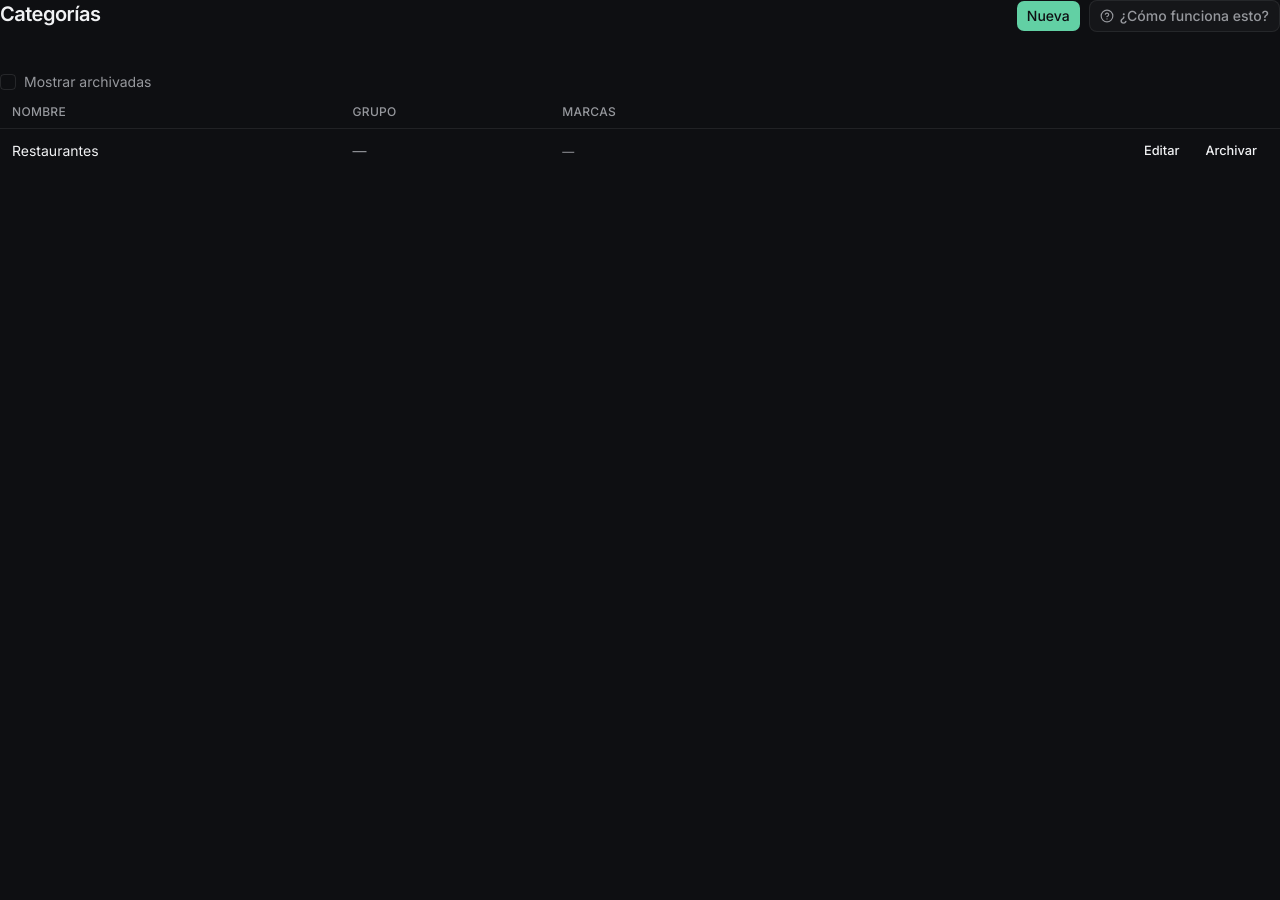
Test: AC-21 — one vocabulary, everywhere › The dead setting that used the word is gone from Categorías
Click the button "Editar" at point(1162, 151), box x1=1133 y1=137 x2=1190 y2=165
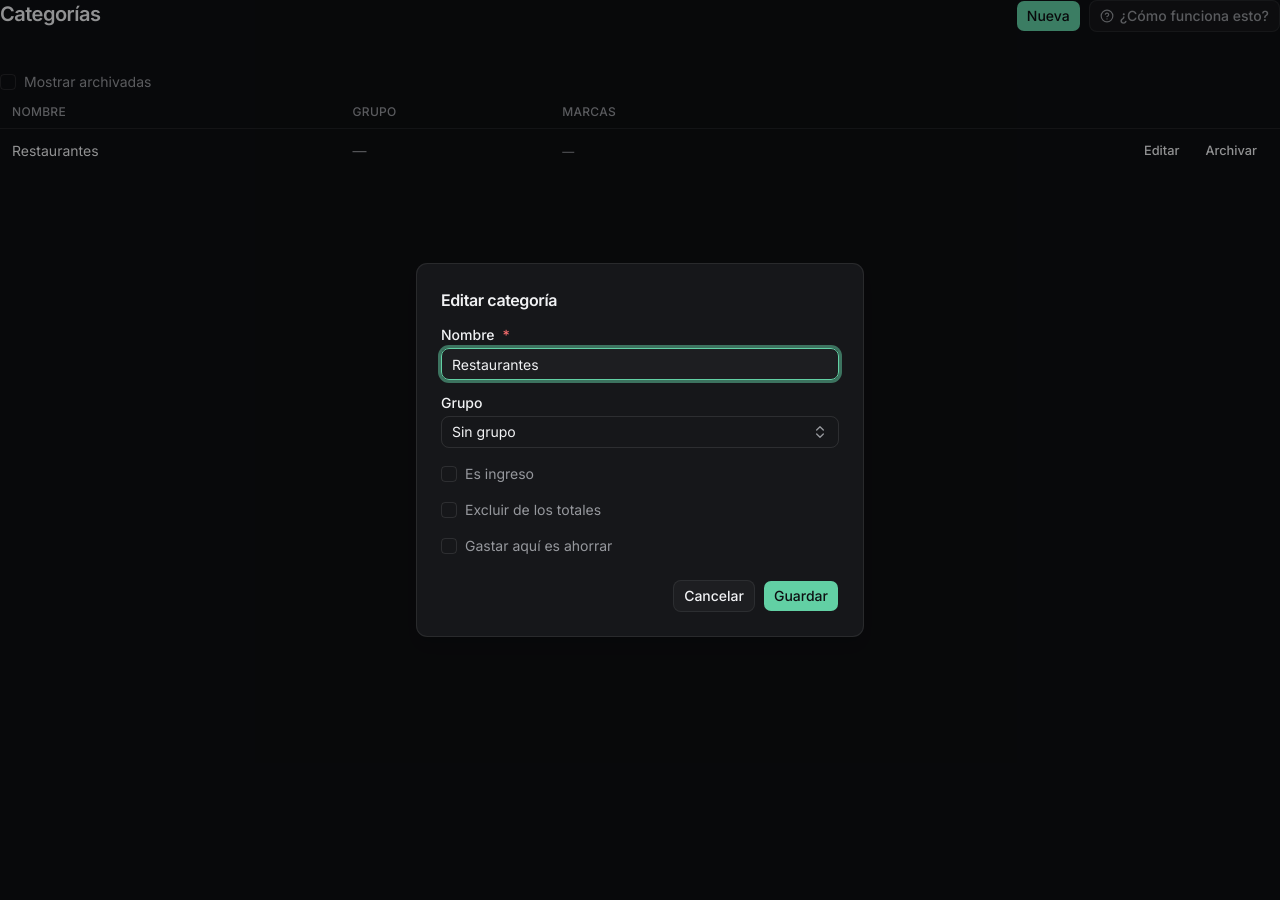
Result: the heading "Editar categoría" is shown at x1=441 y1=290 x2=557 y2=310
